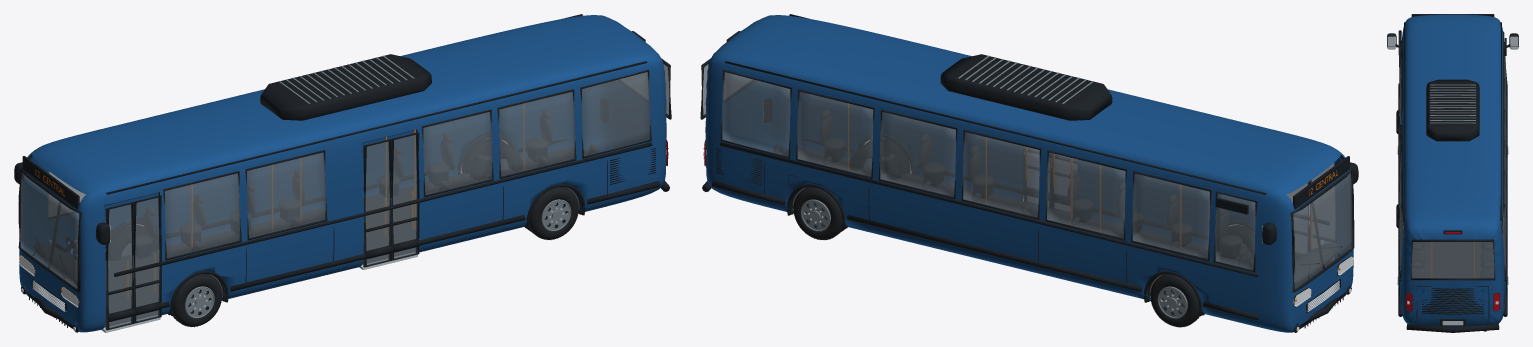
Rendered from city-bus.glb.
3 views of the same model, side by side, from view 1: azimuth 30°, elevation 25°; view 2: azimuth 150°, elevation 25°; view 3: azimuth 270°, elevation 25° (orthographic). The views are drawn at different scales.
Visible parts, largest first — view 1: City bus hollow 12-station low-floor monocoque, Large bus side passenger glass curved transparent pane 1, Bus passenger row 0 seat pedestal, Bus passenger row 0 contoured backrest, Circumferential truck tire tread, Dished steel commercial wheel, Destination sign: 12 CENTRAL, Air vent surround; view 2: City bus hollow 12-station low-floor monocoque, Large bus side passenger glass curved transparent pane 1, Bus passenger row 0 seat pedestal, Bus passenger row 0 contoured backrest, Circumferential truck tire tread, Dished steel commercial wheel, Destination sign: 12 CENTRAL; view 3: City bus hollow 12-station low-floor monocoque, Bus passenger row 0 seat pedestal, Large bus side passenger glass curved transparent pane 1, Bus passenger row 0 contoured backrest, Dished steel commercial wheel, Air vent surround, Rear high-mount stop light red lens.
Part boxes in pixels (x1,y1,x2,y2): City bus hollow 12-station low-floor monocoque: [19, 15, 666, 332]; Large bus side passenger glass curved transparent pane 1: [20, 64, 669, 327]; Bus passenger row 0 seat pedestal: [14, 14, 671, 332]; Bus passenger row 0 contoured backrest: [34, 110, 598, 327]; Circumferential truck tire tread: [105, 134, 582, 327]; Dished steel commercial wheel: [121, 55, 571, 318]; Destination sign: 12 CENTRAL: [19, 104, 524, 297]; Air vent surround: [22, 207, 563, 332]; City bus hollow 12-station low-floor monocoque: [705, 15, 1353, 332]; Large bus side passenger glass curved transparent pane 1: [702, 64, 1352, 289]; Bus passenger row 0 seat pedestal: [700, 14, 1358, 332]; Bus passenger row 0 contoured backrest: [774, 110, 1337, 295]; Circumferential truck tire tread: [790, 134, 1254, 327]; Dished steel commercial wheel: [801, 55, 1250, 318]; Destination sign: 12 CENTRAL: [848, 104, 1340, 301]; City bus hollow 12-station low-floor monocoque: [1400, 14, 1505, 327]; Bus passenger row 0 seat pedestal: [1387, 14, 1518, 332]; Large bus side passenger glass curved transparent pane 1: [1399, 42, 1506, 278]; Bus passenger row 0 contoured backrest: [1412, 239, 1493, 277]; Dished steel commercial wheel: [1397, 84, 1508, 287]; Air vent surround: [1387, 36, 1518, 331]; Rear high-mount stop light red lens: [1405, 232, 1500, 311].
Size of the model in its own units: 12.2 by 3.43 by 3.08.
10 materials, 9 textured.
